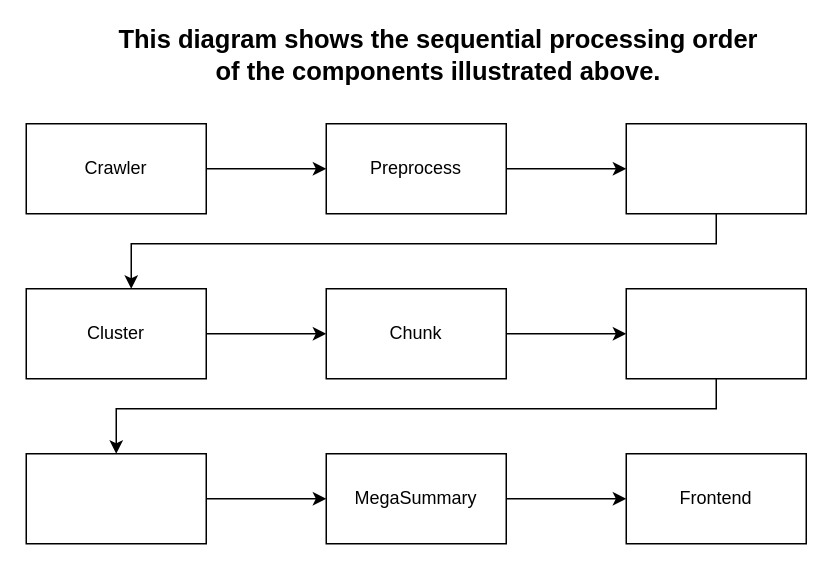
The diagram is 833 pixels wide and 570 high, and some of its shapes have lost their labels. Each missing label, with the centre of its shape:
"ChunkSummaries" belongs at [715,333].
"ClusterSummary" belongs at [115,498].
"Filter" belongs at [715,168].
